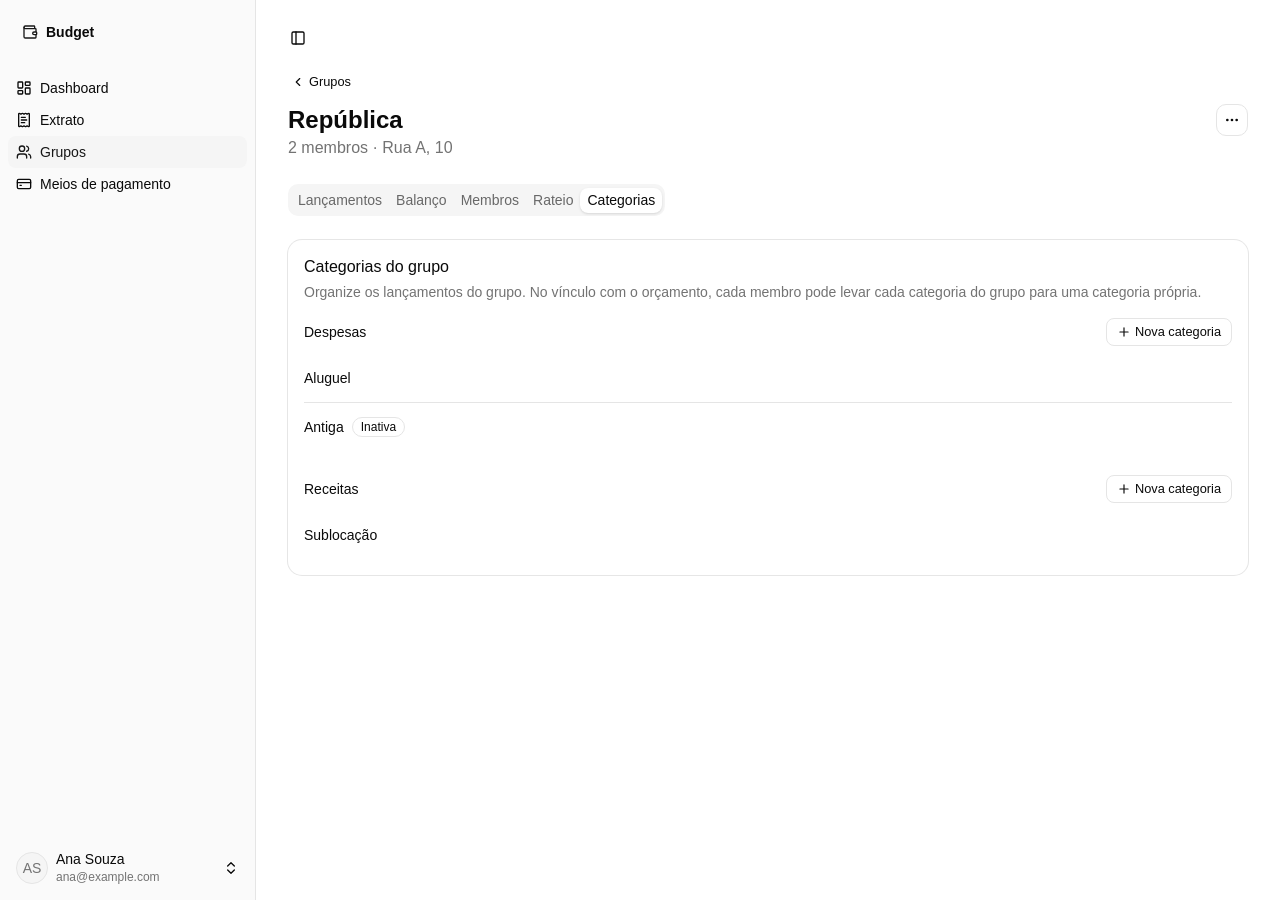
Test: Group categories (/grupos/$groupId?tab=categorias) › creates a category of the chosen kind and refreshes the group
Expected: the heading "República" is shown, top-left (288, 106), bottom-right (403, 133)
Click the button with aria-label "Nova categoria de receita" at (1169, 489), box top-left (1106, 475), bottom-right (1232, 503)
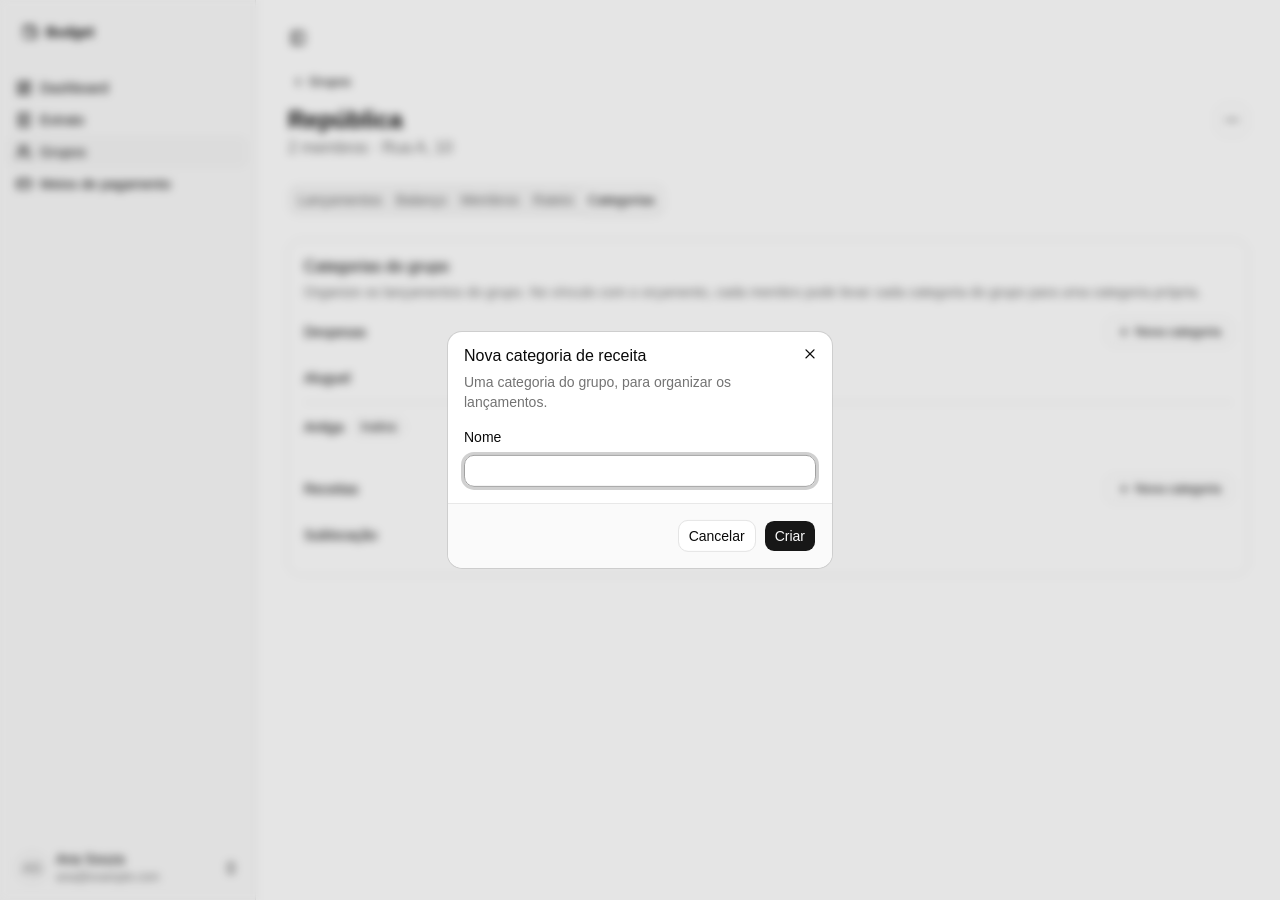
Click the button "Criar" at (790, 536), box top-left (764, 520), bottom-right (816, 552)
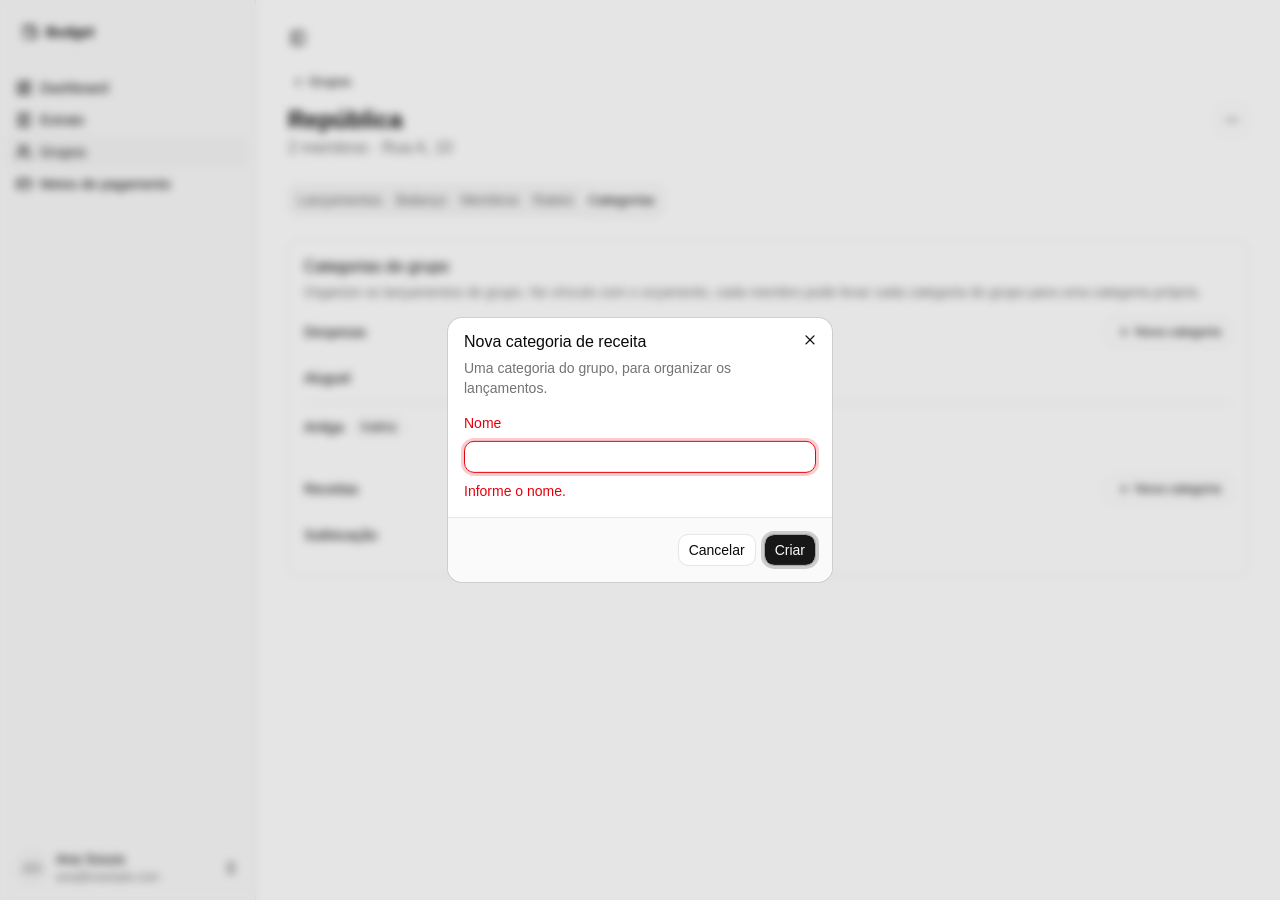
Now the text "Informe o nome." is shown, box top-left (464, 483), bottom-right (566, 499)
Type "Vaga" into the field labelled "Nome" at (640, 457), box top-left (464, 441), bottom-right (816, 473)
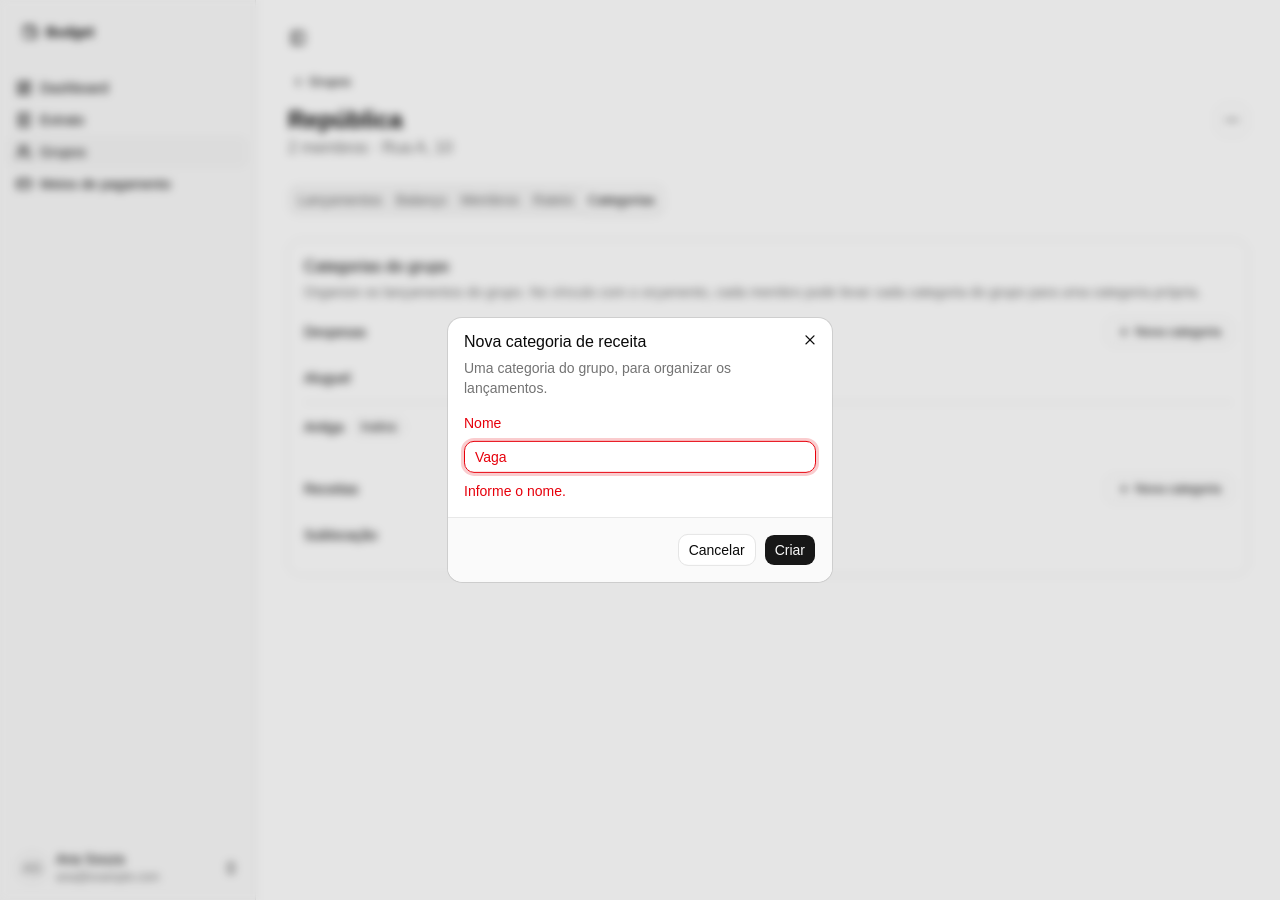
Click the button "Criar" at (790, 550), box top-left (764, 534), bottom-right (816, 566)
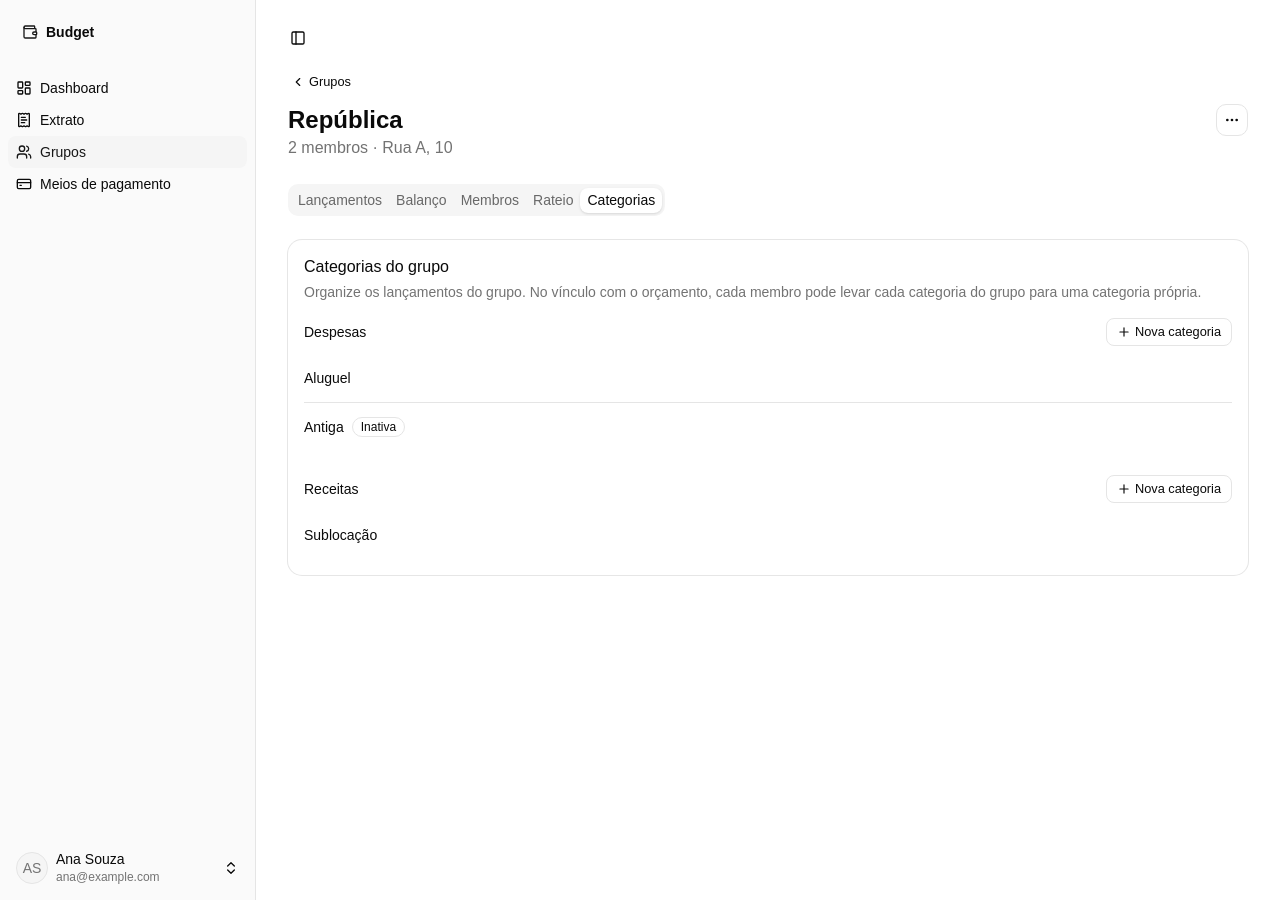
Now the dialog is gone
